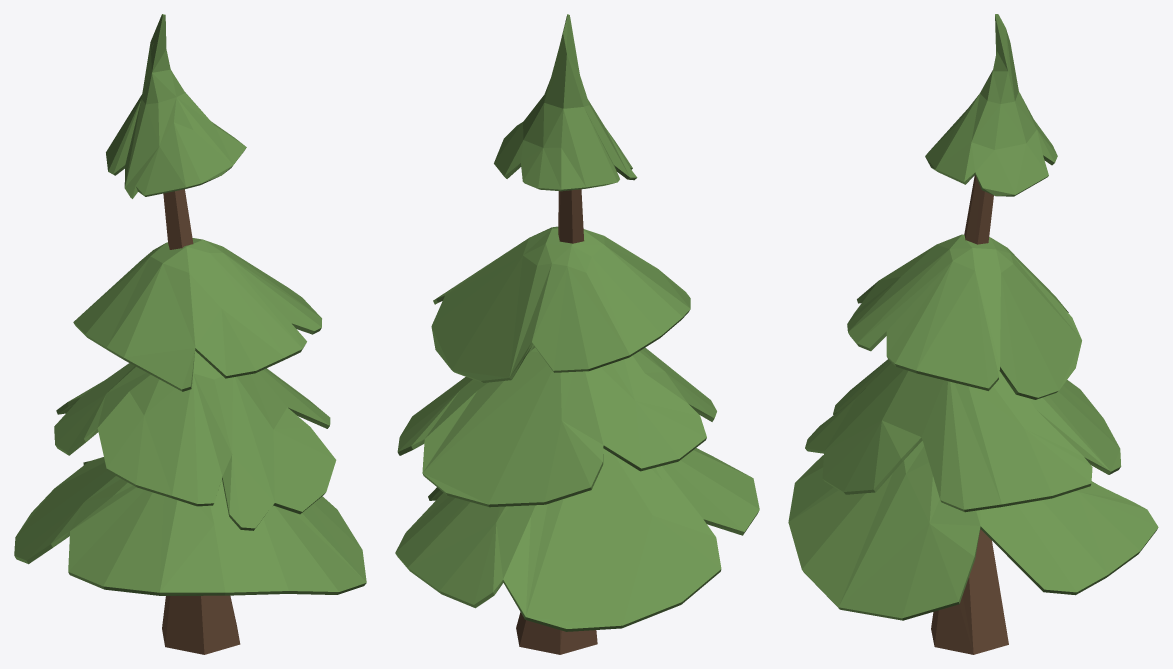
File: PineTree_2.glb
The picture shows the model from 3 angles, left to right: view 1: azimuth 30°, elevation 25°; view 2: azimuth 150°, elevation 25°; view 3: azimuth 270°, elevation 25°; orthographic projection. The views are drawn at different scales.
Parts seen in each view (by area): view 1: PineTree_2; view 2: PineTree_2; view 3: PineTree_2.
Boxes of the visible parts, x1=… form: PineTree_2: x1=14, y1=14, x2=366, y2=654; PineTree_2: x1=395, y1=14, x2=759, y2=654; PineTree_2: x1=788, y1=14, x2=1158, y2=654.
Size of the model in its own units: 1.8 by 3.56 by 1.96.
